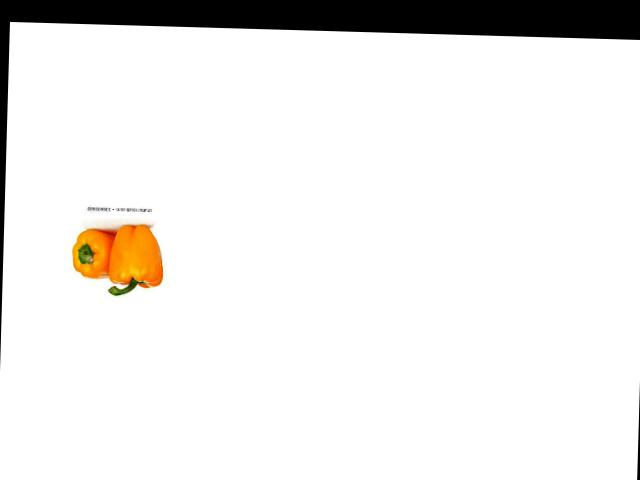bell_pepper: (71, 226, 117, 282)
